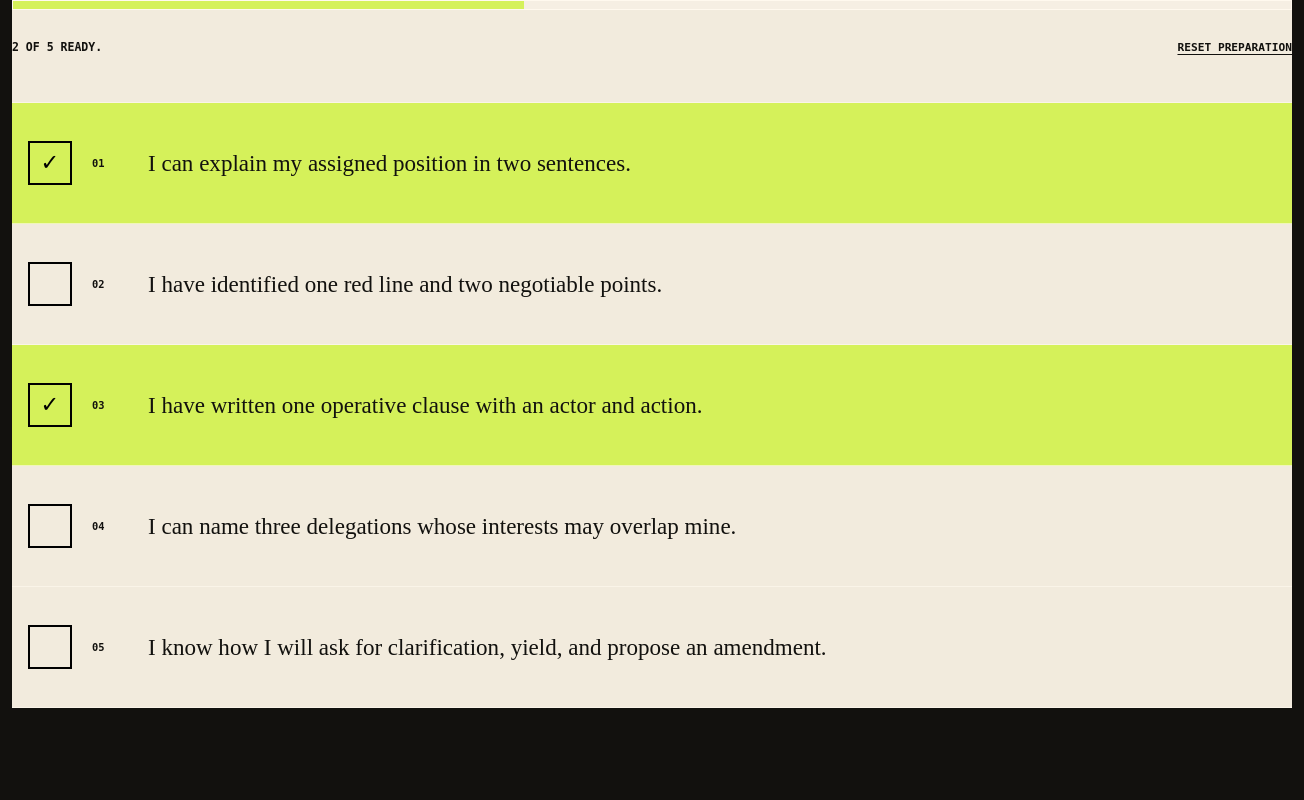
Scenario: PreparationDesk › restores valid local progress and resets it on request
The width and height of the screenshot is (1304, 800).
expect the checkbox labelled "01 I can explain my assigned position in two sentences." is checked: met, box top-left (28, 141), bottom-right (72, 185)
expect the 3rd checkbox is checked: met, box top-left (28, 383), bottom-right (72, 427)
Click the button "Reset preparation" at [1235, 48], box top-left (1178, 26), bottom-right (1292, 70)
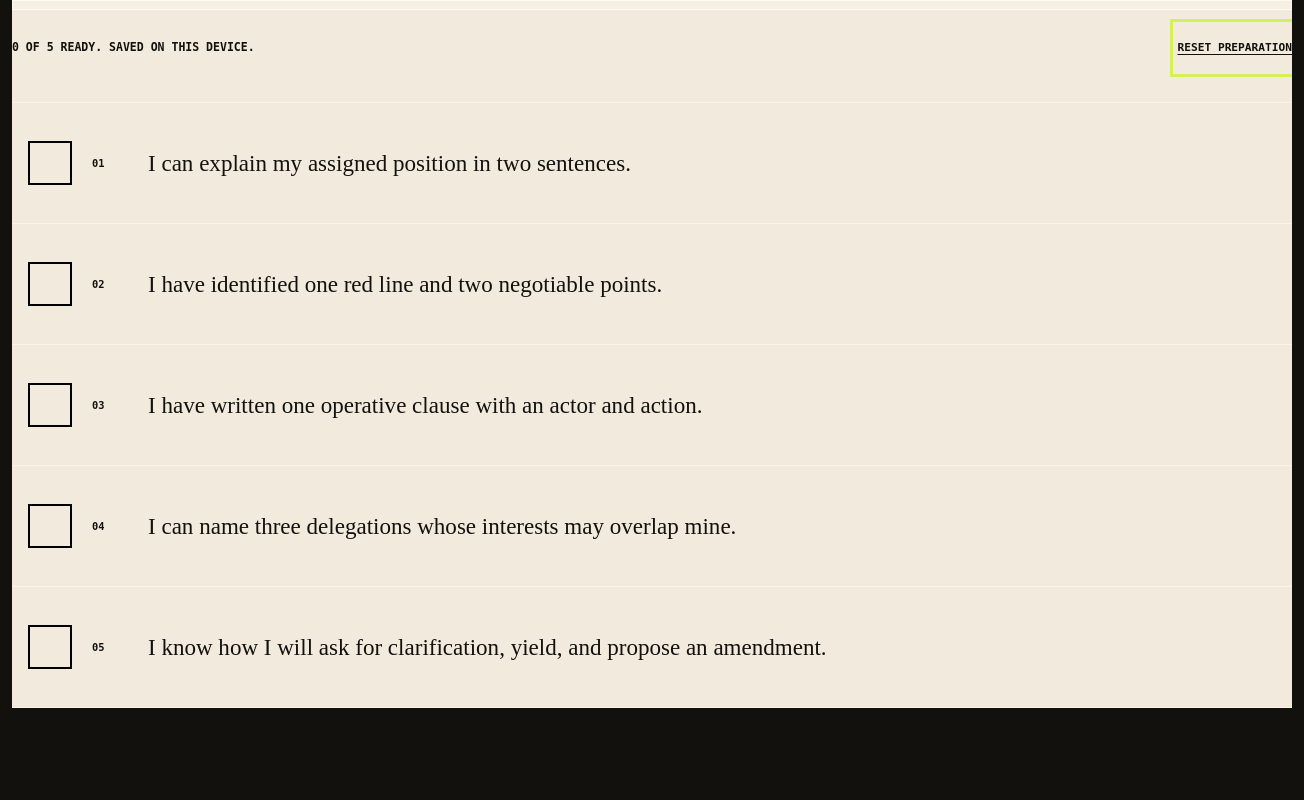
expect the checkbox labelled "01 I can explain my assigned position in two sentences." is not checked: met, box top-left (28, 141), bottom-right (72, 185)
expect the 3rd checkbox is not checked: met, box top-left (28, 383), bottom-right (72, 427)
expect the message shows "0 of 5 ready": met, box top-left (12, 40), bottom-right (255, 54)
